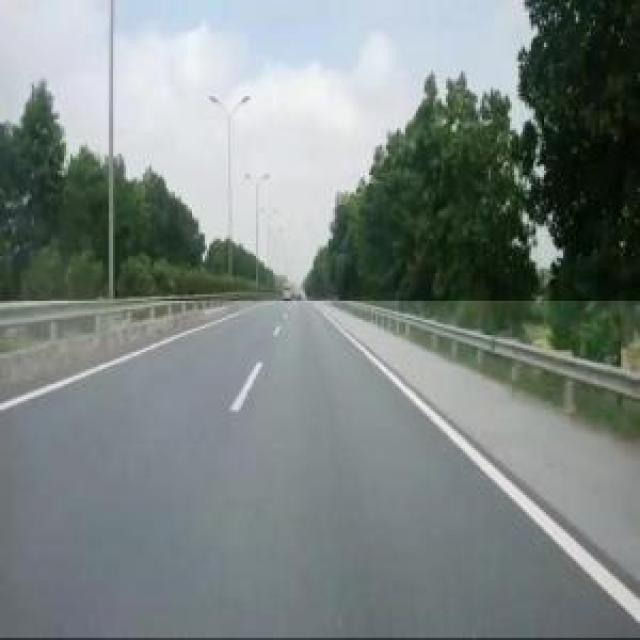clear-road: (0, 302, 640, 638)
